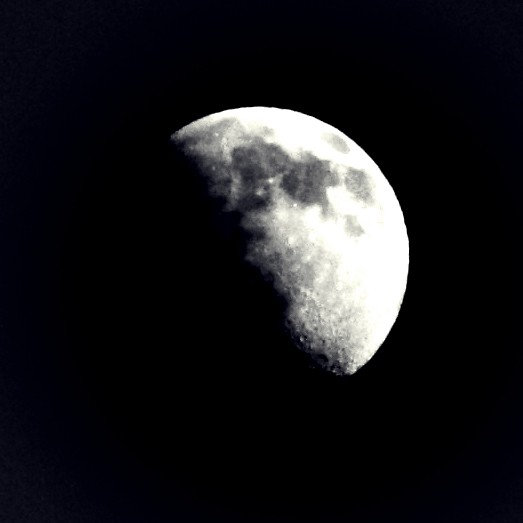crater: (298, 329, 316, 347), (263, 171, 282, 188), (283, 245, 300, 262), (208, 127, 224, 141), (261, 242, 274, 255), (289, 196, 299, 207)
